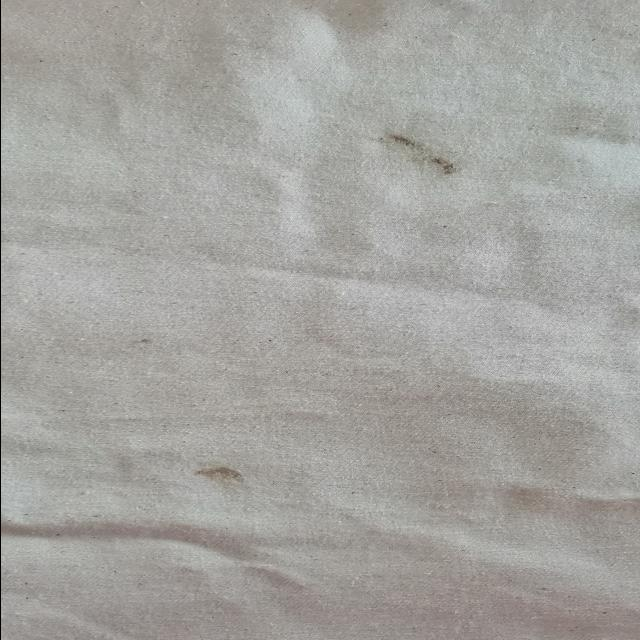taaaches: (363, 125, 482, 177), (178, 462, 256, 488)
